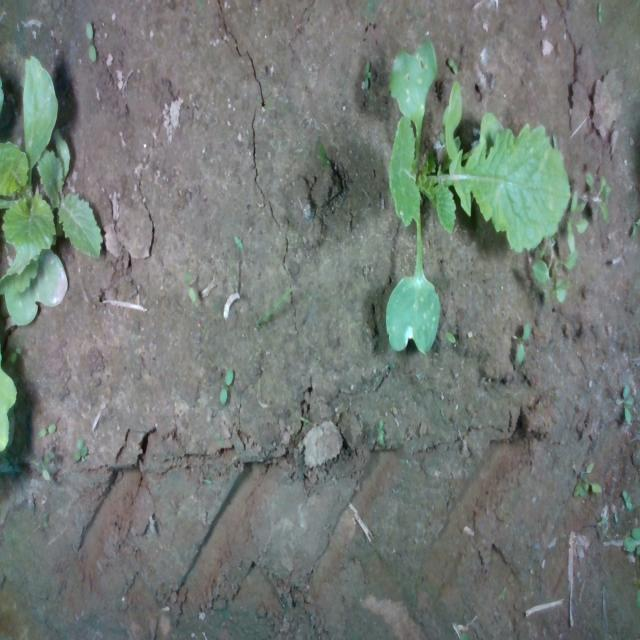weed: (613, 380, 633, 424), (515, 320, 531, 366), (218, 366, 234, 406), (85, 20, 97, 61), (72, 435, 88, 461), (362, 57, 372, 90), (36, 422, 56, 438), (446, 55, 458, 77), (622, 487, 632, 512)
